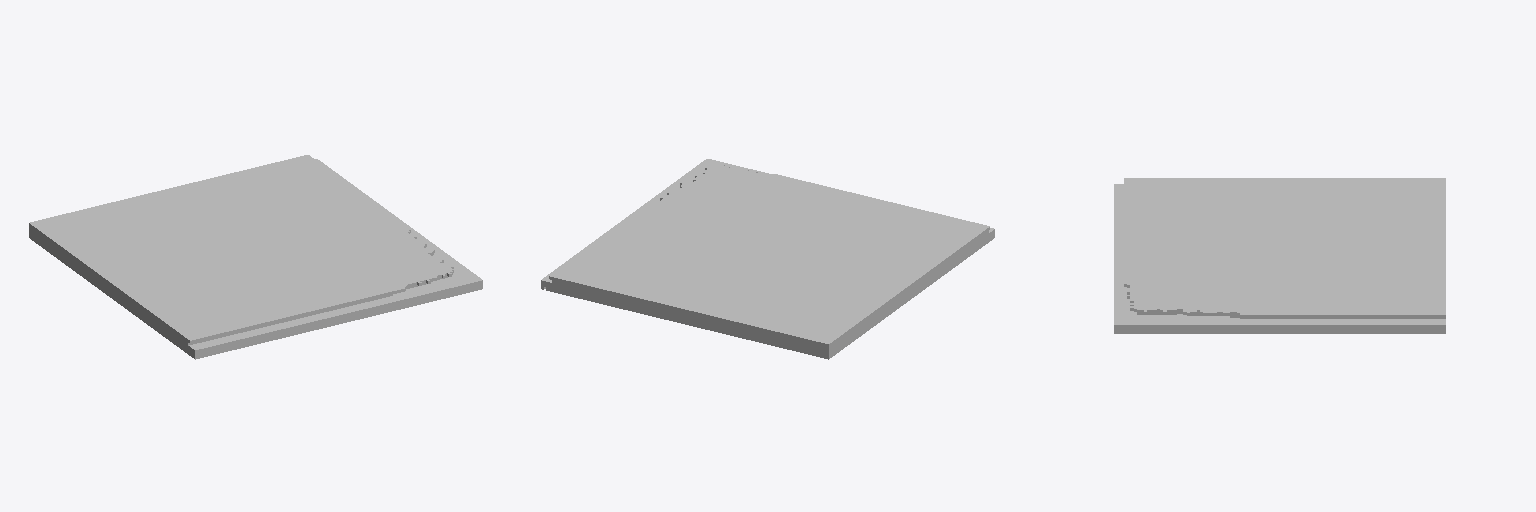
File: Grass_Corner_Chunk.obj
3 views of the same model, side by side, from view 1: azimuth 30°, elevation 25°; view 2: azimuth 150°, elevation 25°; view 3: azimuth 270°, elevation 25° (orthographic).
Parts seen in each view (by area): view 1: Grass_Corner_Chunk; view 2: Grass_Corner_Chunk; view 3: Grass_Corner_Chunk.
Boxes of the visible parts, x1,y1,x2,y2 form: Grass_Corner_Chunk: [29, 155, 482, 359]; Grass_Corner_Chunk: [541, 159, 994, 359]; Grass_Corner_Chunk: [1114, 178, 1445, 333].
Size of the model in its own units: 100 by 5 by 100.